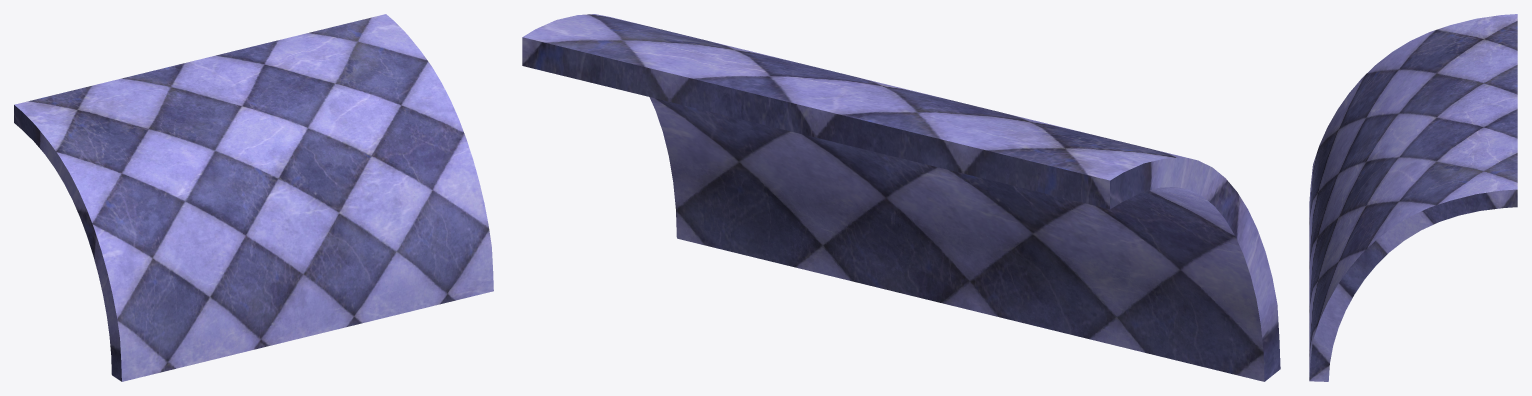
Rendered from hub_ceiling_arch.fbx.
3 views of the same model, side by side, from view 1: azimuth 30°, elevation 25°; view 2: azimuth 150°, elevation 25°; view 3: azimuth 270°, elevation 25° (orthographic). The views are drawn at different scales.
Visible parts, largest first — view 1: wall_ceiling_arch; view 2: wall_ceiling_arch; view 3: wall_ceiling_arch.
Part boxes in pixels (x1,y1,x2,y2): wall_ceiling_arch: (14, 14, 493, 381); wall_ceiling_arch: (522, 14, 1280, 381); wall_ceiling_arch: (1309, 14, 1517, 381).
Bounding box in the file's own units: 22.47 × 11.49 × 11.29.
